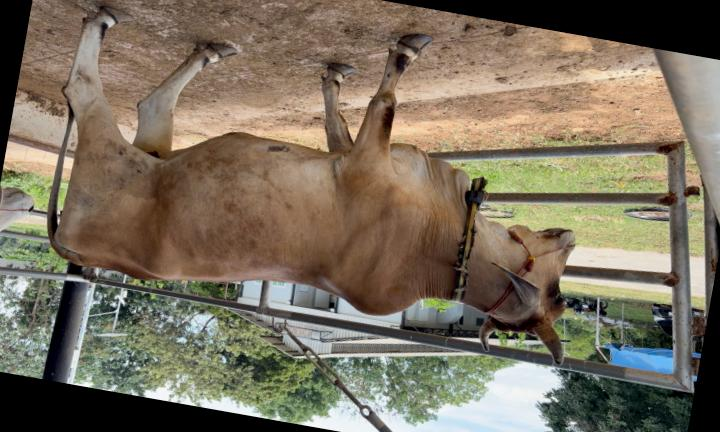Brahman: (49, 8, 575, 366)
